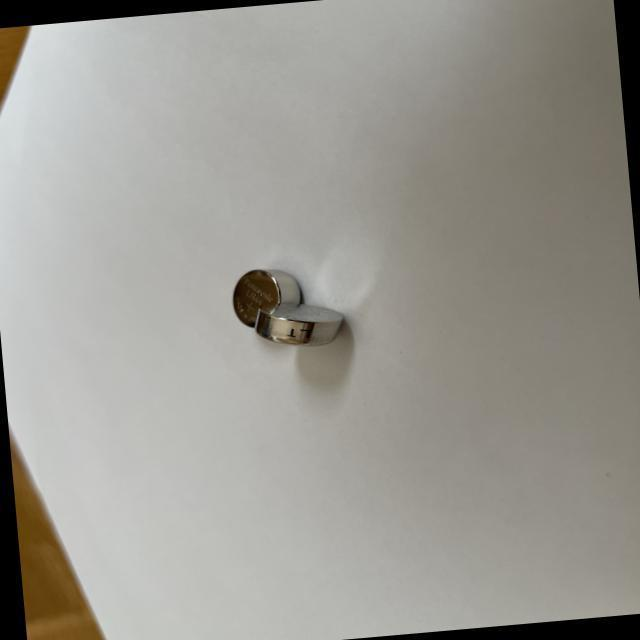COIN: (249, 296, 347, 351), (230, 264, 306, 328)
